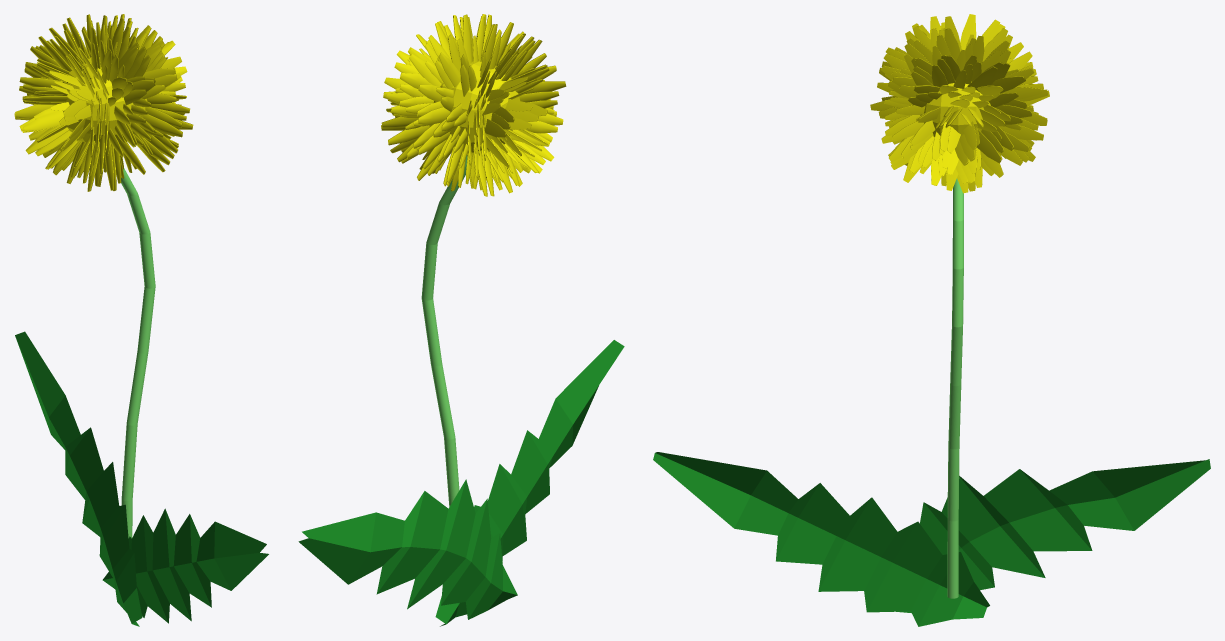
File: dandelion.fbx
3 views of the same model, side by side, from view 1: azimuth 30°, elevation 25°; view 2: azimuth 150°, elevation 25°; view 3: azimuth 270°, elevation 25° (orthographic). The views are drawn at different scales.
Visible parts, largest first — view 1: Plane.001, Cube, Cube|Cube.001|Dupli|2, Cube|Cube.001|Dupli|55, Cube|Cube.001|Dupli|221; view 2: Plane.001, Cube; view 3: Plane.001, Cube.
Part boxes in pixels (left/top/right/bottom): Plane.001: left=15, top=168, right=268, bottom=626; Cube: left=59, top=57, right=147, bottom=145; Cube|Cube.001|Dupli|2: left=23, top=111, right=63, bottom=131; Cube|Cube.001|Dupli|55: left=25, top=125, right=69, bottom=154; Cube|Cube.001|Dupli|221: left=143, top=114, right=182, bottom=137; Plane.001: left=298, top=155, right=624, bottom=626; Cube: left=429, top=59, right=520, bottom=155; Plane.001: left=653, top=178, right=1210, bottom=626; Cube: left=912, top=81, right=999, bottom=136.
Bounding box in the file's own units: 60.85 × 225 × 191.
